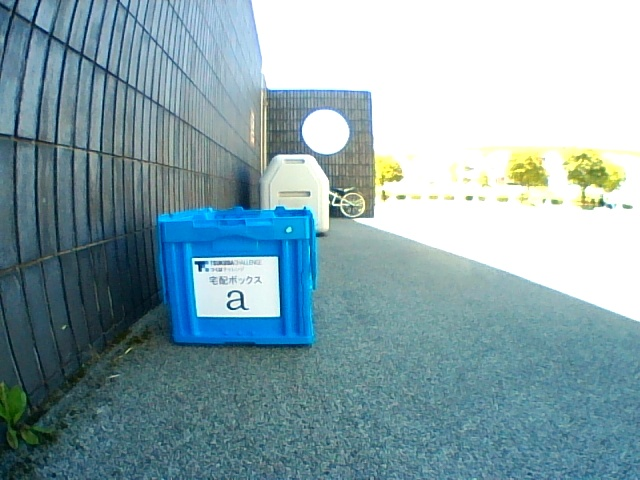blue_box: (156, 206, 317, 344)
tag_a: (197, 258, 279, 317)
